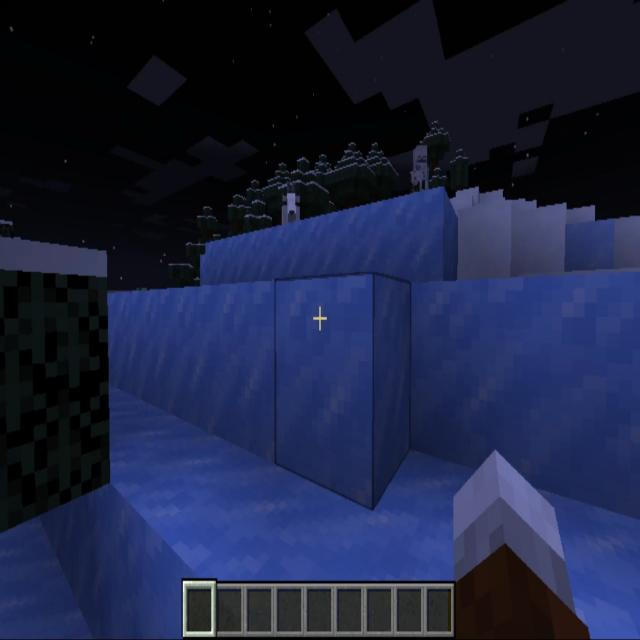Goat: (280, 175, 307, 230)
Skeleton: (406, 141, 436, 200)
